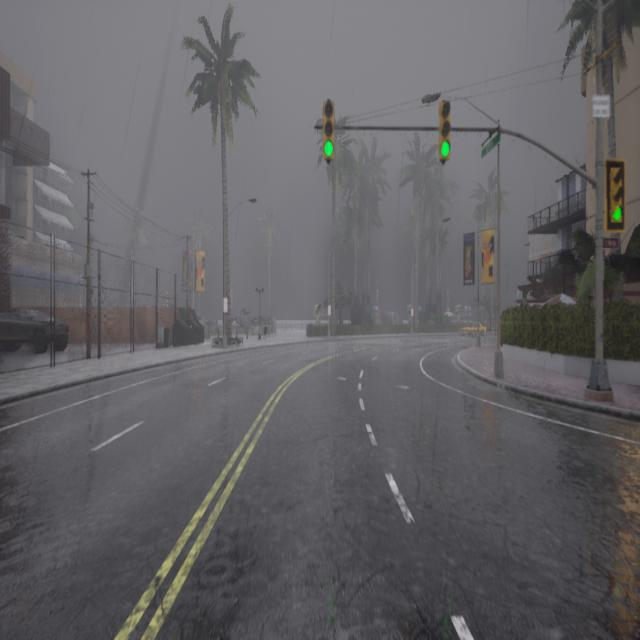9: (606, 159, 625, 229), (322, 98, 336, 162), (439, 96, 451, 164)
bien_hieu_lenh: (611, 204, 624, 223), (324, 138, 334, 158), (440, 140, 451, 158)
